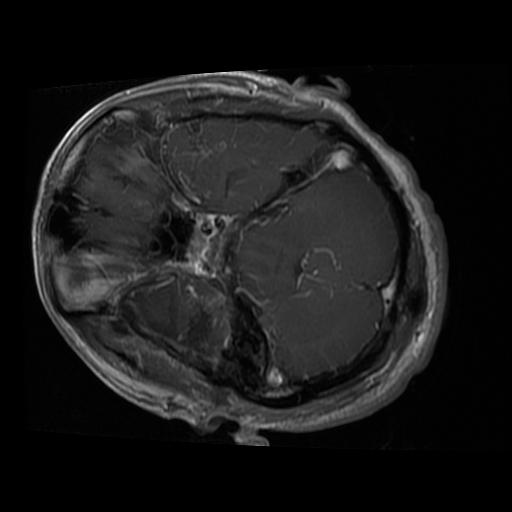glioma: (172, 283, 233, 366)
